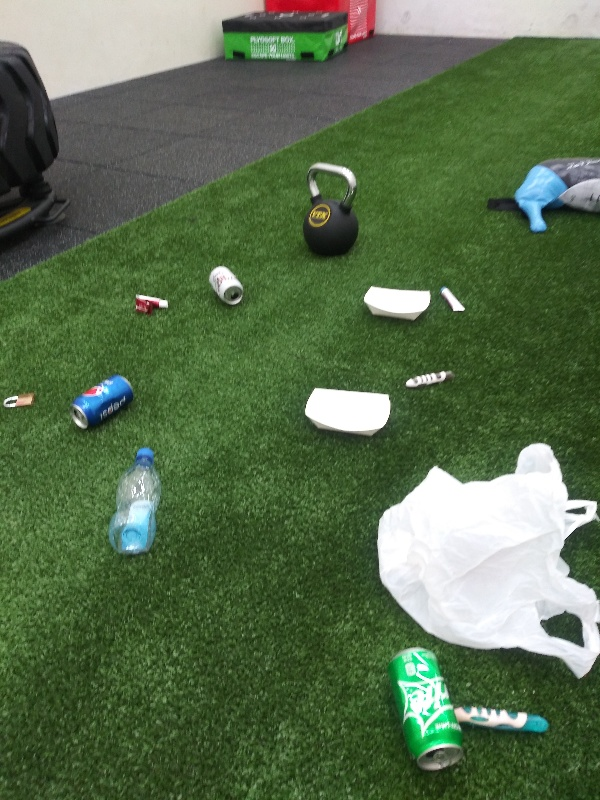bottle: (107, 448, 166, 553)
can: (384, 644, 469, 772), (66, 373, 138, 434), (203, 262, 246, 306)
plate: (300, 378, 394, 443), (356, 282, 434, 326)
